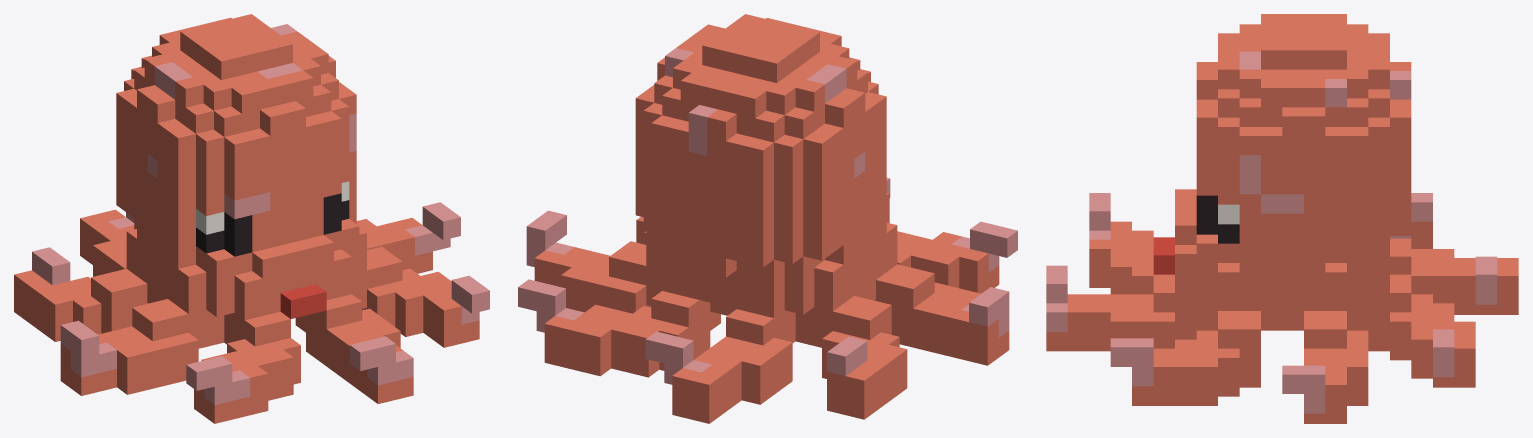
Rendered from octopus.glb.
3 renders of one model, left to right at view 1: azimuth 30°, elevation 25°; view 2: azimuth 150°, elevation 25°; view 3: azimuth 270°, elevation 25°, orthographic. The views are drawn at different scales.
Parts seen in each view (by area): view 1: octopus; view 2: octopus; view 3: octopus.
Boxes of the visible parts, bbox=[...] form: octopus: bbox=[14, 14, 489, 423]; octopus: bbox=[518, 14, 1017, 423]; octopus: bbox=[1046, 14, 1518, 423].
Size of the model in its own units: 2.3 by 1.5 by 2.2.
1 material, 1 textured.
